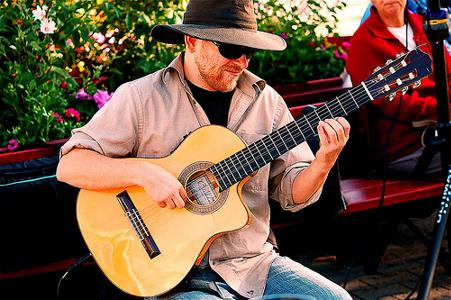person: (57, 3, 353, 300)
